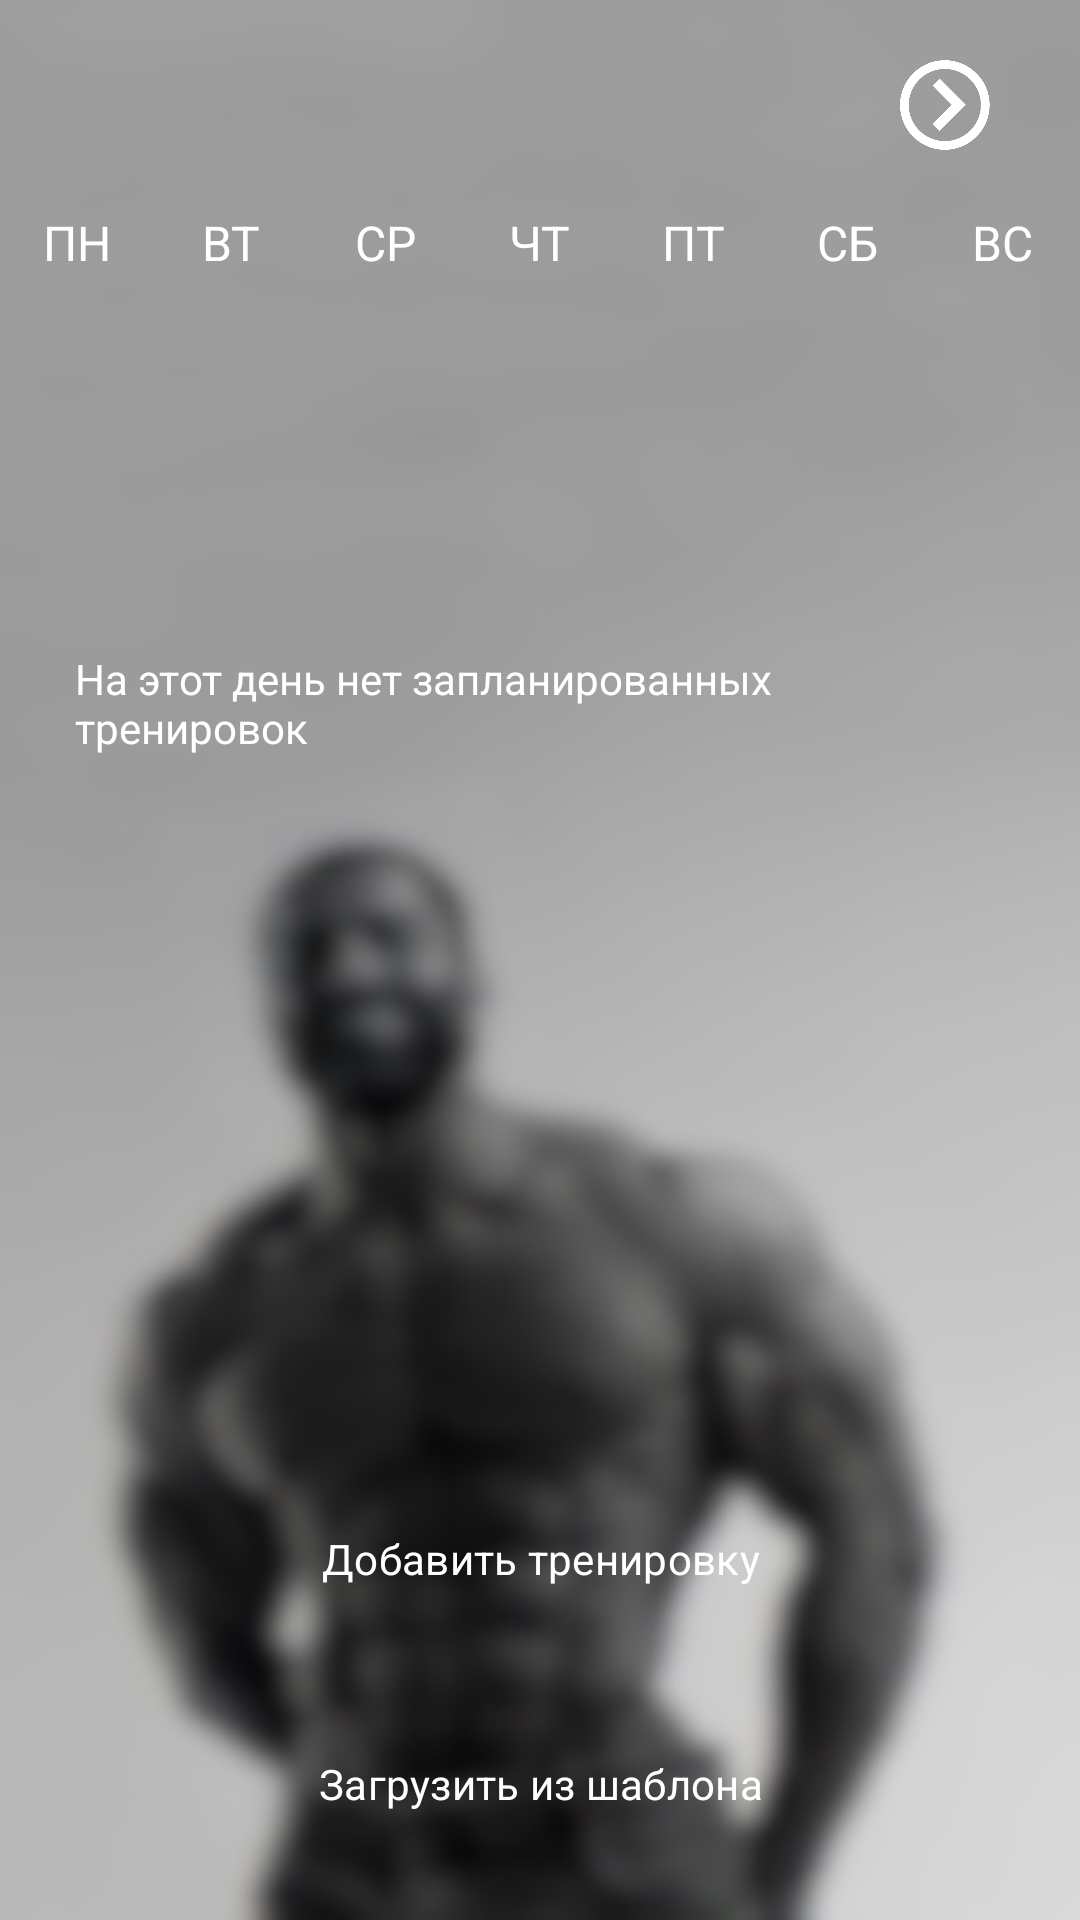

Icons on this 1080 × 1920 Android screen, each with its box as (x1, y1, x2, y2):
arrow right: (900, 60, 990, 150)
